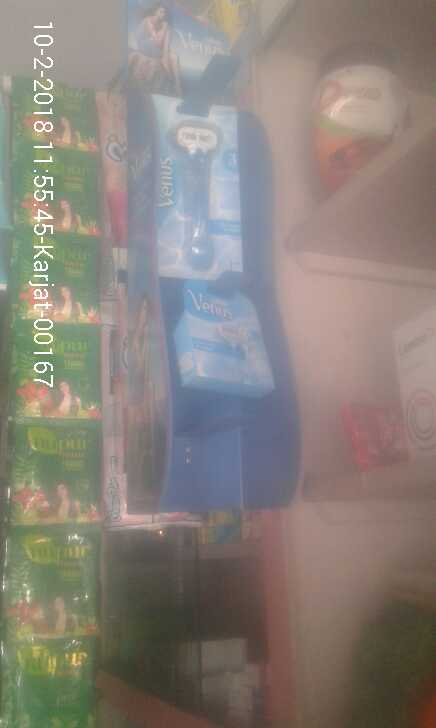venus: (156, 98, 242, 278), (176, 281, 275, 391)
